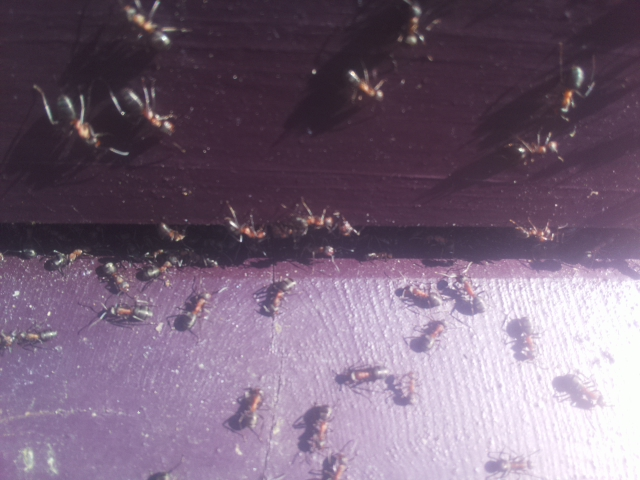ant: (115, 77, 182, 145), (45, 94, 112, 151), (551, 55, 597, 129), (117, 0, 175, 51), (548, 368, 610, 413), (168, 285, 219, 338), (258, 271, 303, 325), (300, 399, 342, 454), (216, 210, 274, 245), (233, 382, 270, 436), (346, 60, 384, 111), (407, 316, 450, 356), (325, 363, 391, 389), (134, 254, 191, 284), (476, 450, 533, 479), (12, 322, 63, 352), (509, 310, 537, 364), (286, 207, 340, 235), (503, 219, 563, 244), (399, 0, 426, 51), (101, 256, 132, 298), (313, 451, 355, 480), (47, 244, 89, 273), (106, 301, 160, 323), (389, 369, 420, 407), (156, 218, 189, 246)
